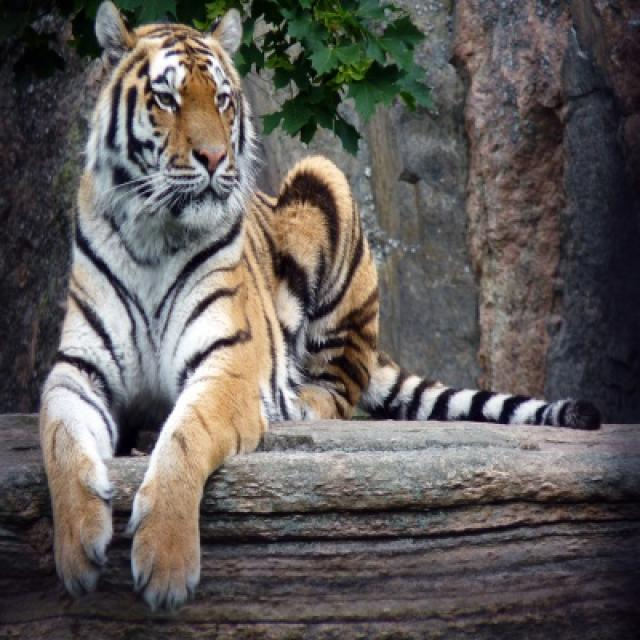Tiger: (32, 0, 605, 610)
